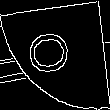O_E: (29, 30, 81, 80)
